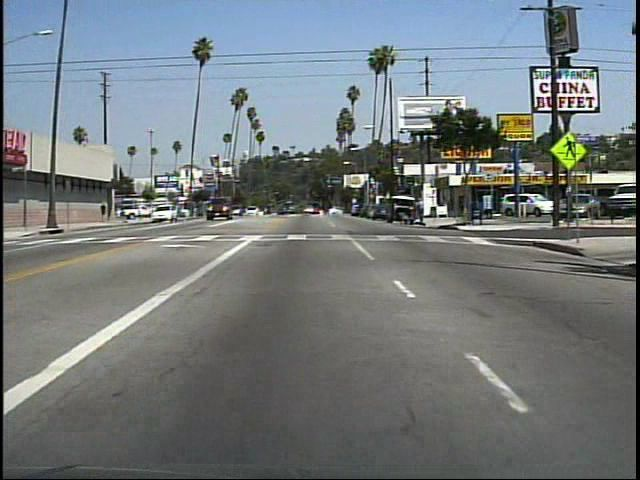person: (413, 197, 427, 227), (398, 211, 415, 229), (100, 199, 109, 226)
